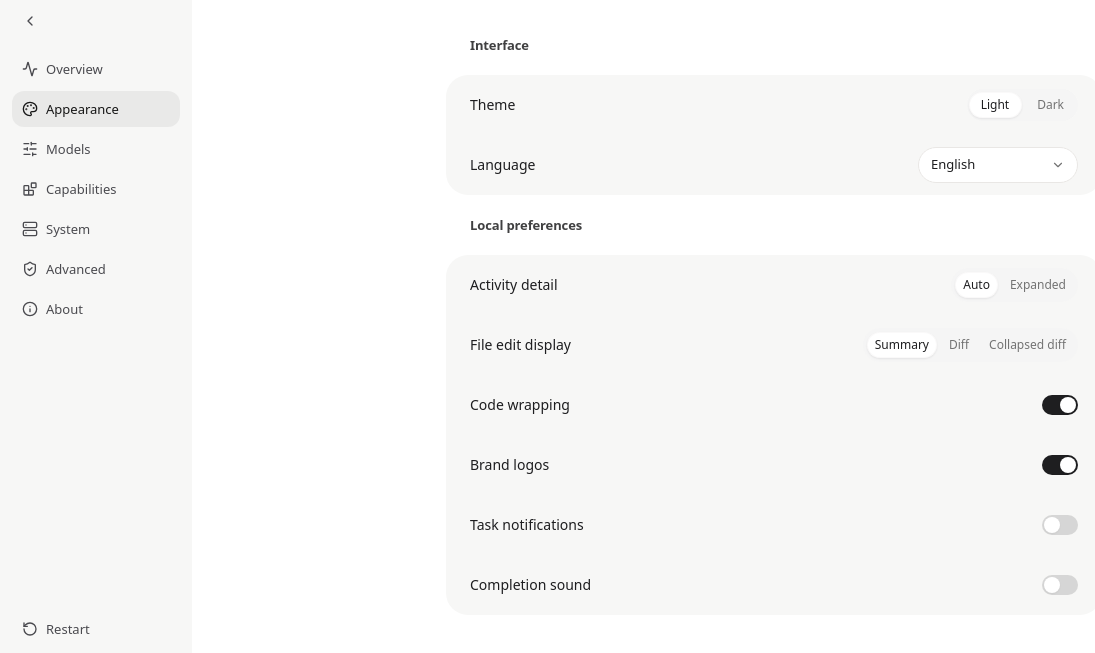
Test case: Settings overview and appearance › shows the brand logo explanation in a tooltip when requested
Click the button "Brand logos" at point(510, 465), box [470,455,549,475]
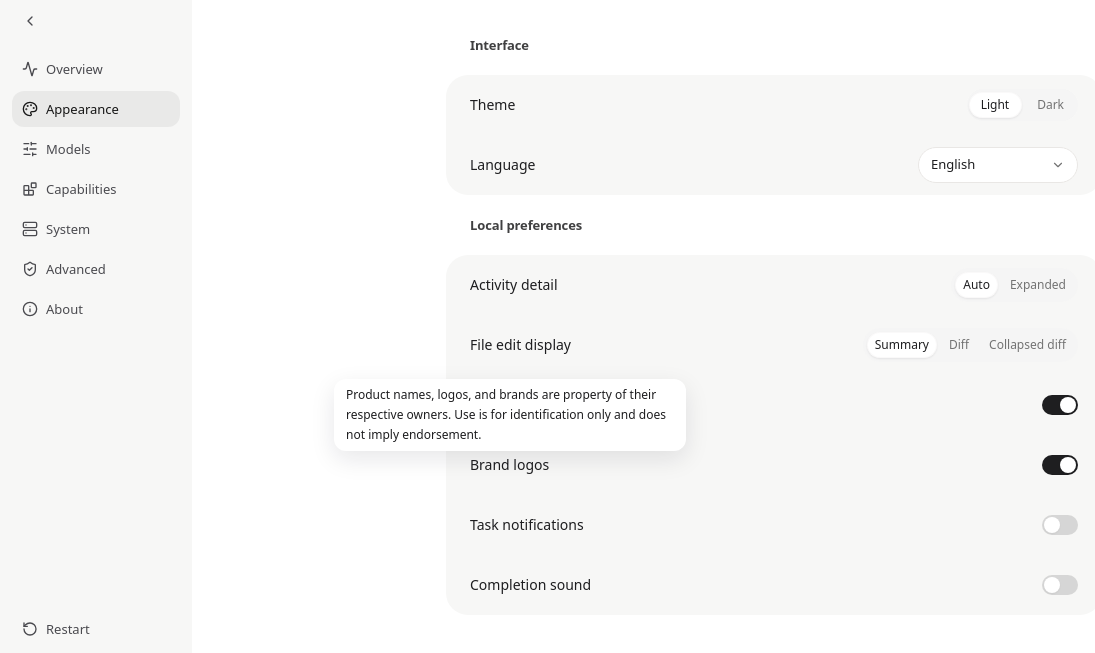
Now the tooltip shows "Product names, logos, and brands are property of their respective owners. Use is for identification only and does not imply endorsement.", box [346,386,666,443]
